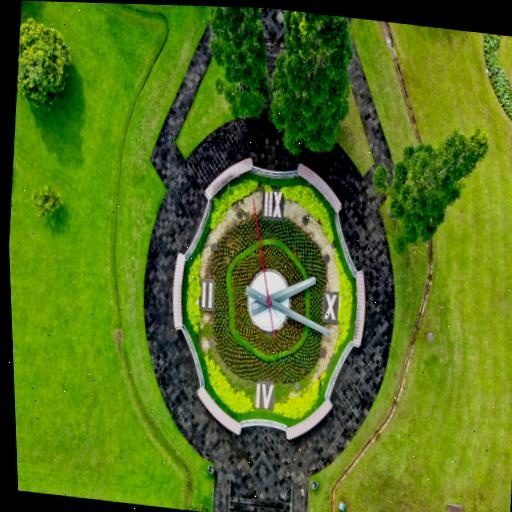tree-top: (259, 8, 363, 165), (381, 116, 496, 247), (194, 6, 283, 126), (13, 27, 79, 114), (29, 178, 64, 227), (181, 496, 217, 512)
